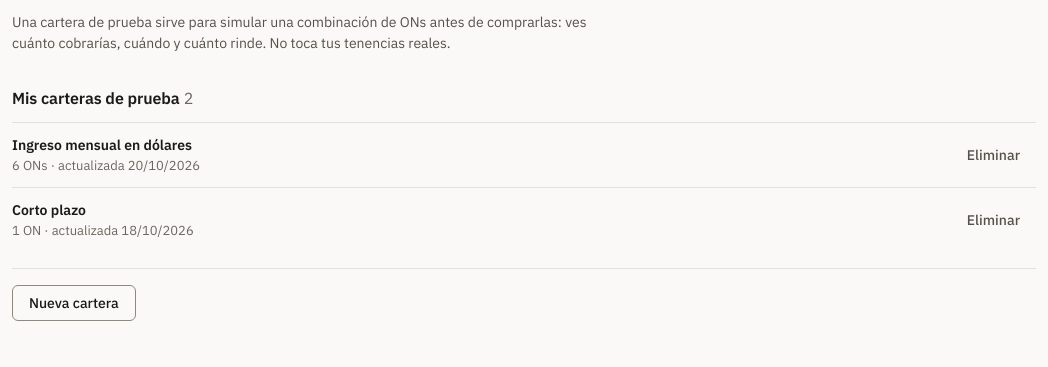
PortfolioList (S5) › lists the existing portfolios before the create action, which opens the name field on demand
This screenshot has width=1048, height=367.
Click the button "Nueva cartera" at (74, 303), box [12,285,136,321]
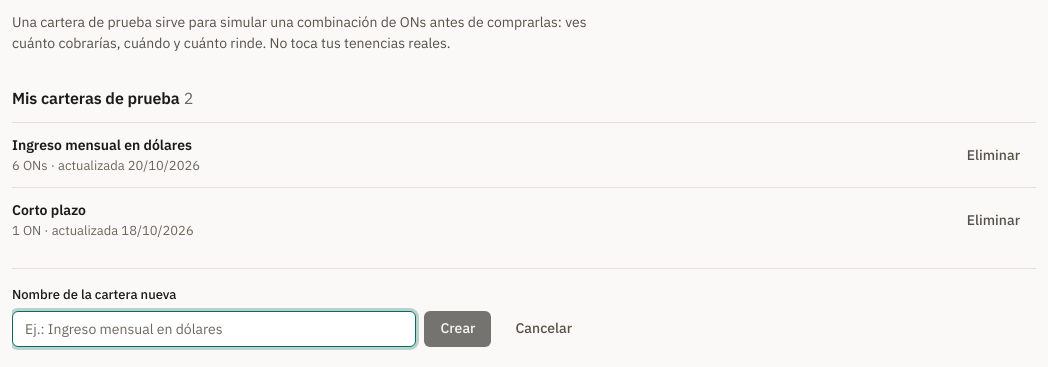
Now the field labelled "Nombre de la cartera nueva" is shown, box [12,310,416,346]
